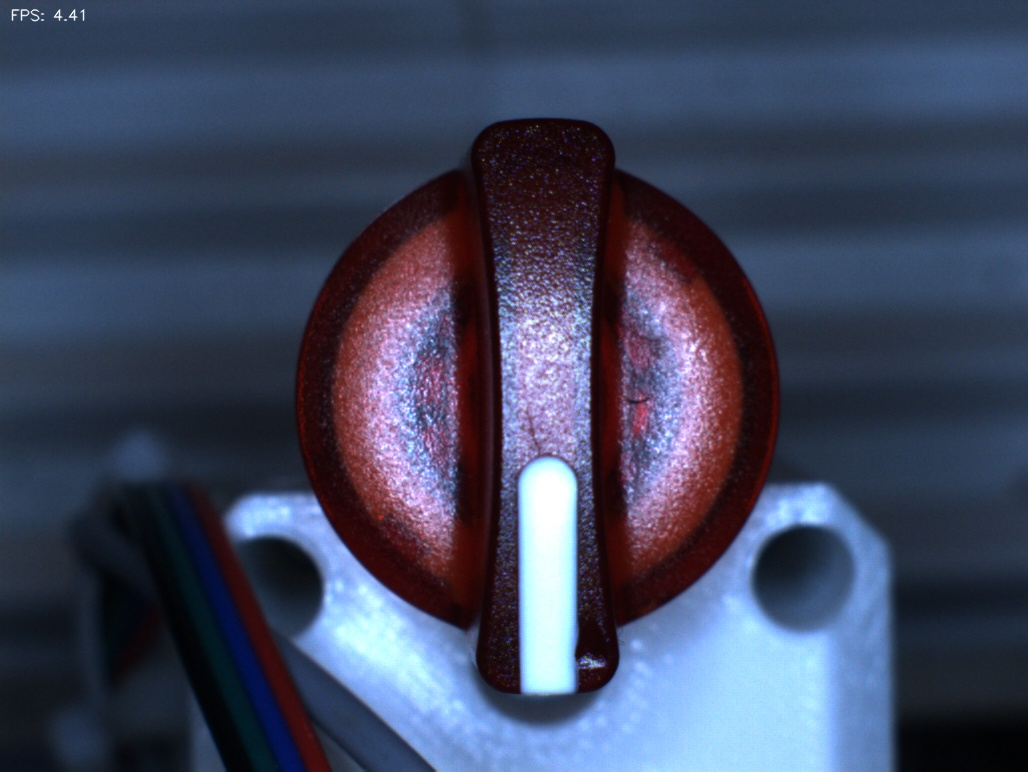Choc: (562, 612, 630, 680)
